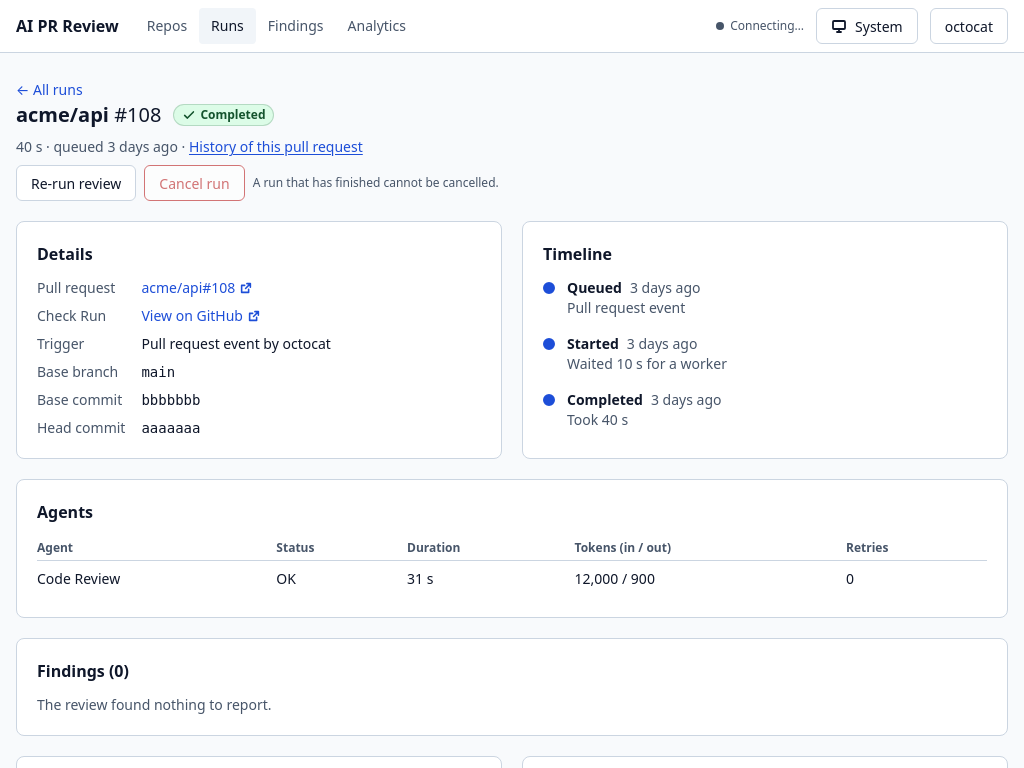
it: Re-run › shows why a re-run was refused and stays on the run
The width and height of the screenshot is (1024, 768).
Click the button "Re-run review".
click(76, 183)  # box [16, 165, 136, 201]
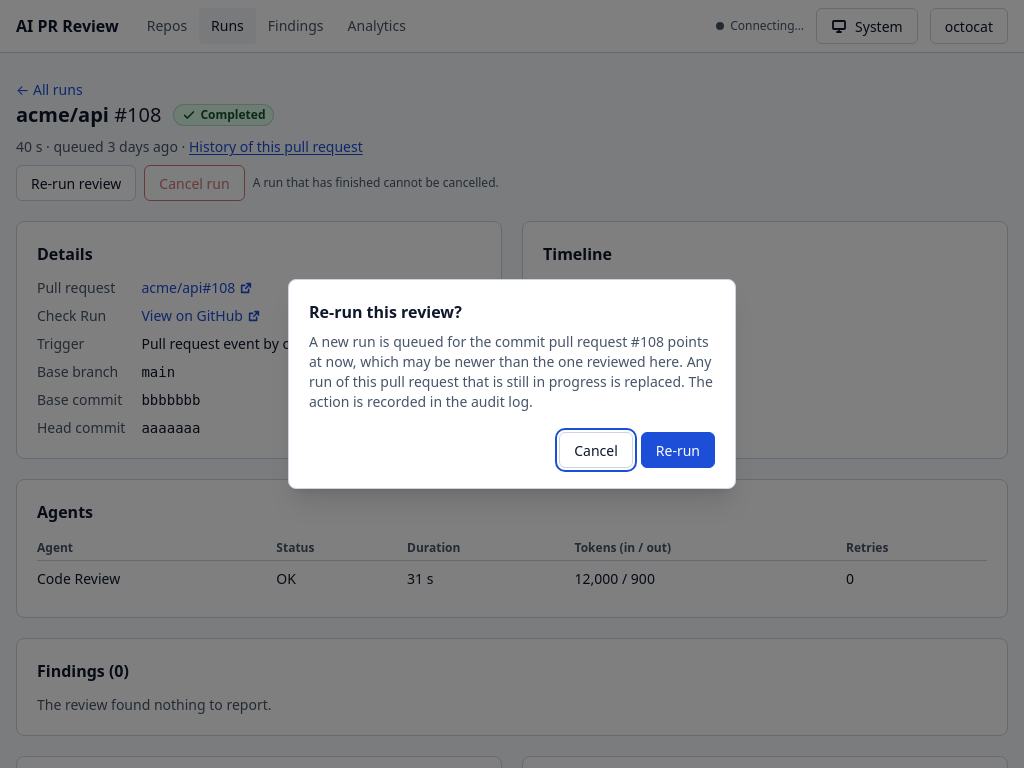
Click the button "Re-run".
click(678, 450)  # box [641, 432, 715, 468]
(page scrolled)
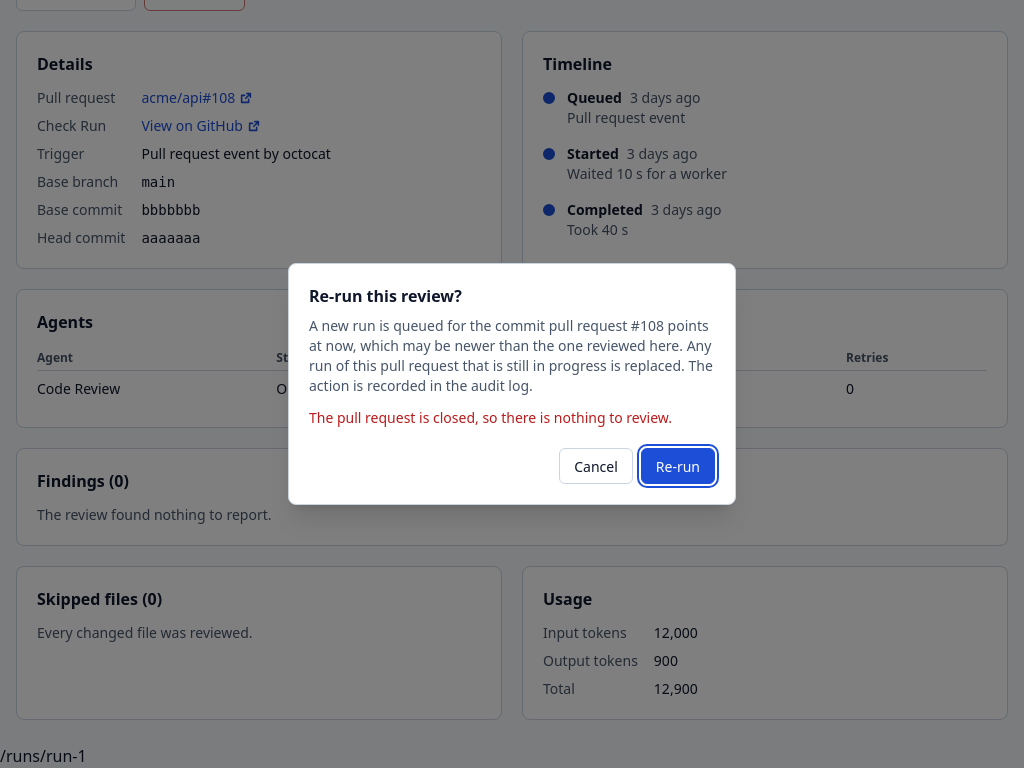
Expected: the text with test id "location" reads "/runs/run-1", [0, 745, 87, 767]
Expected: the text "The pull request is closed, so there is nothing to review." is shown, [309, 408, 715, 428]
